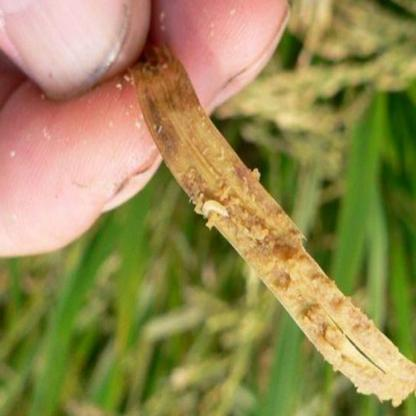whorl-maggot: (197, 193, 230, 226)
